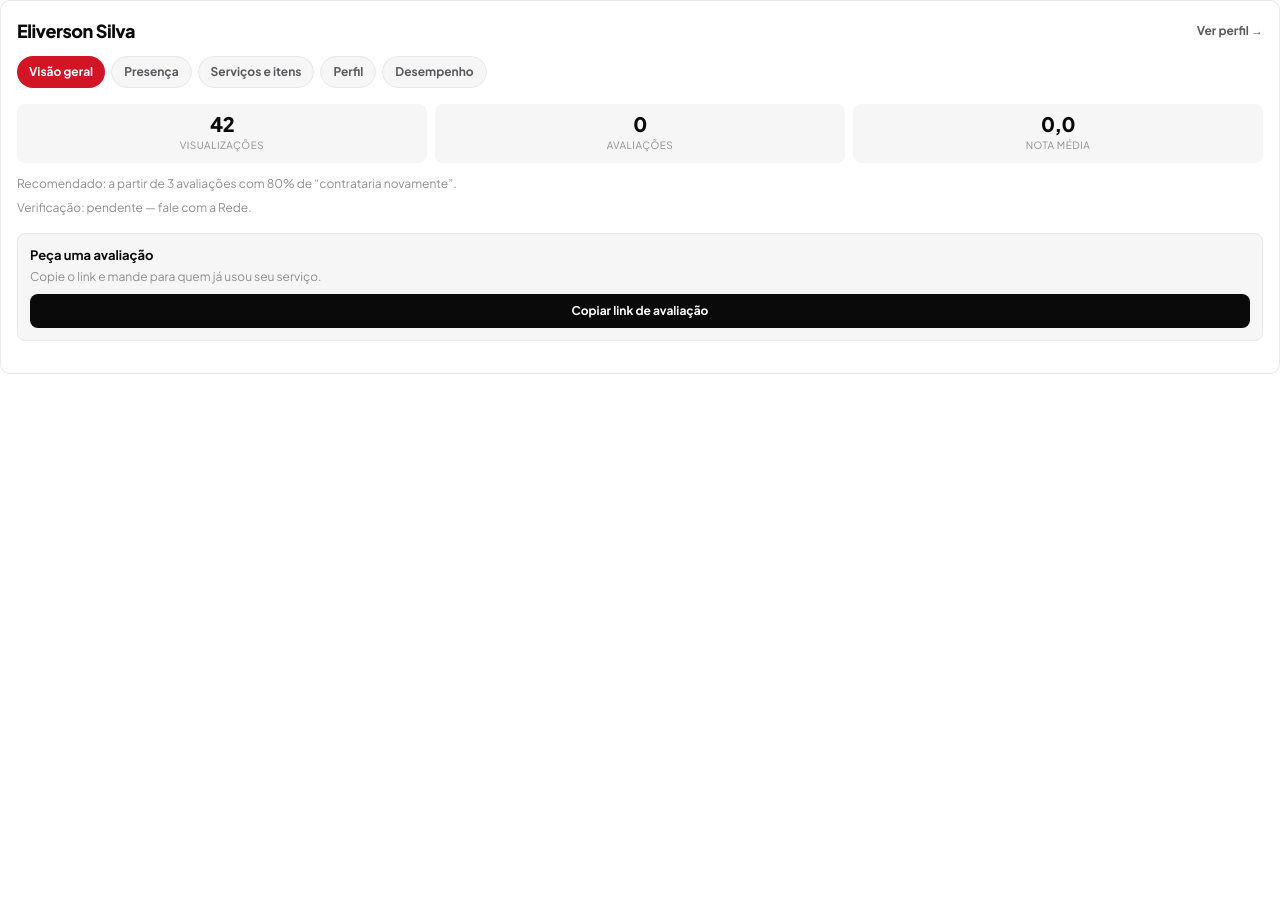
Test case: PainelClient — itens dentro do serviço › abre a tela dedicada de novo item ao clicar em Adicionar
What coordinates should you click on to do the following:
click the button "Serviços e itens"
I would click on:
 (256, 72)
Its box is top-left (198, 56), bottom-right (314, 88).
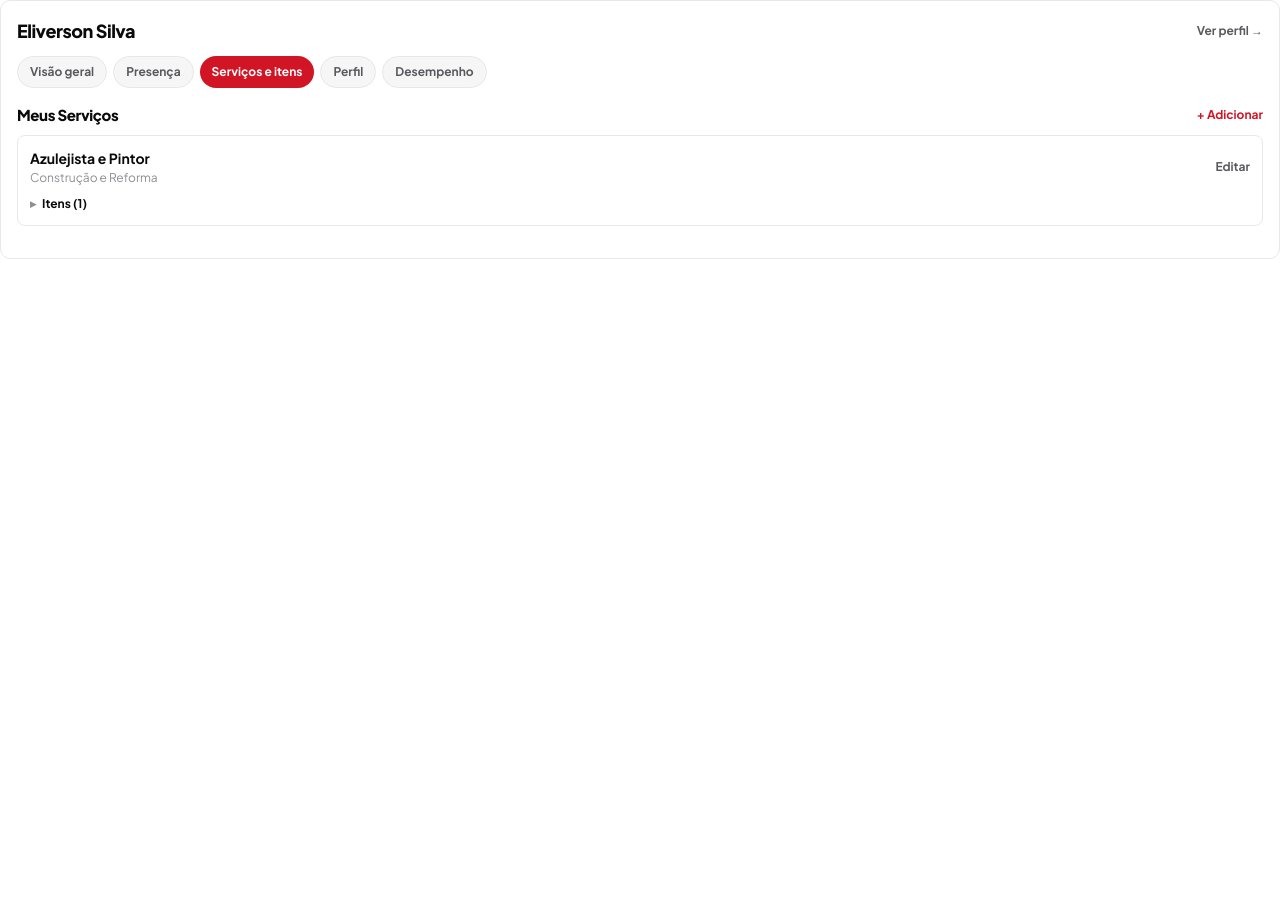
What coordinates should you click on to do the following:
click the button "▸ Itens (1)"
I would click on:
 (58, 204)
Its box is top-left (30, 194), bottom-right (87, 212).
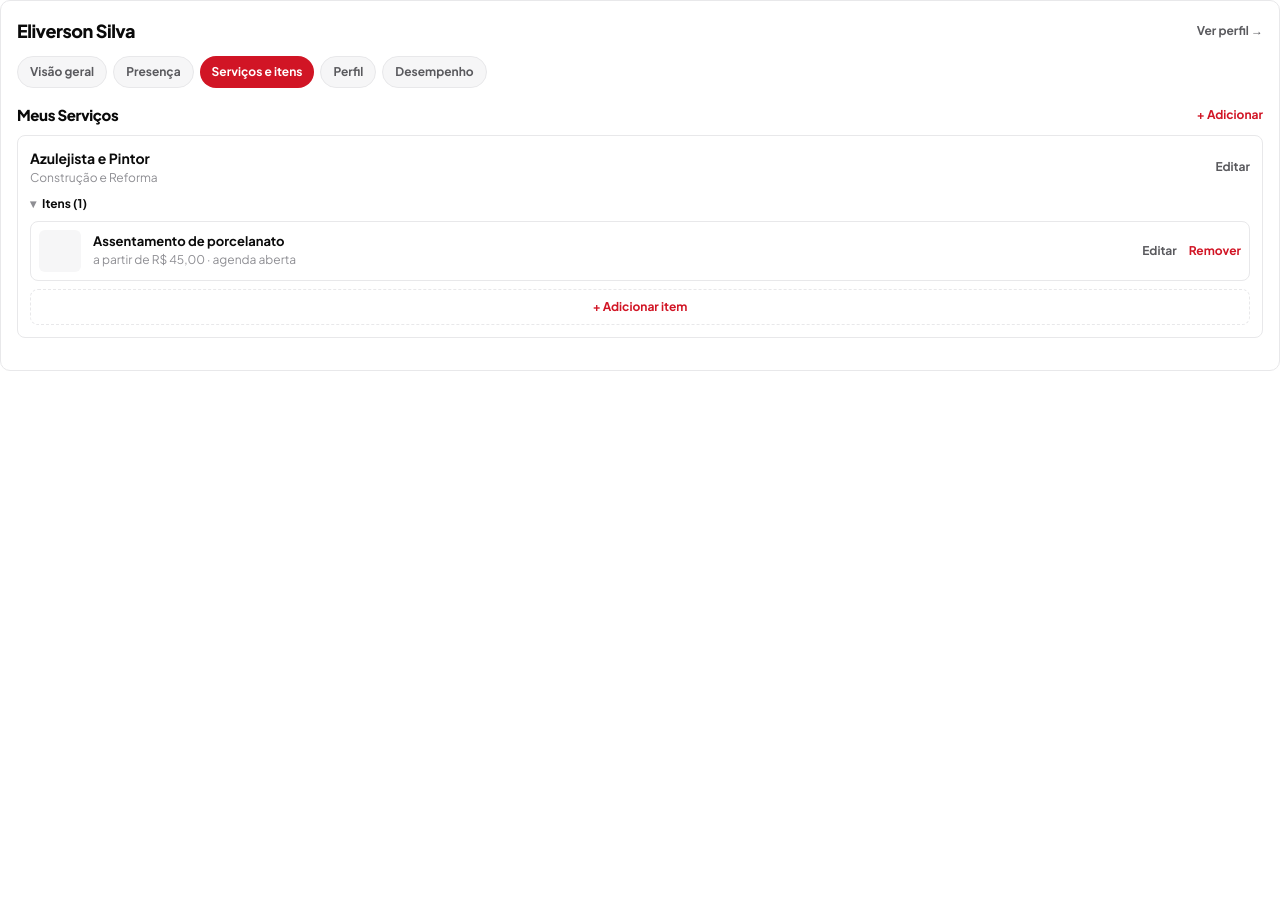
What coordinates should you click on to do the following:
click the button "+ Adicionar item"
I would click on:
 (640, 306)
Its box is top-left (30, 288), bottom-right (1250, 324).
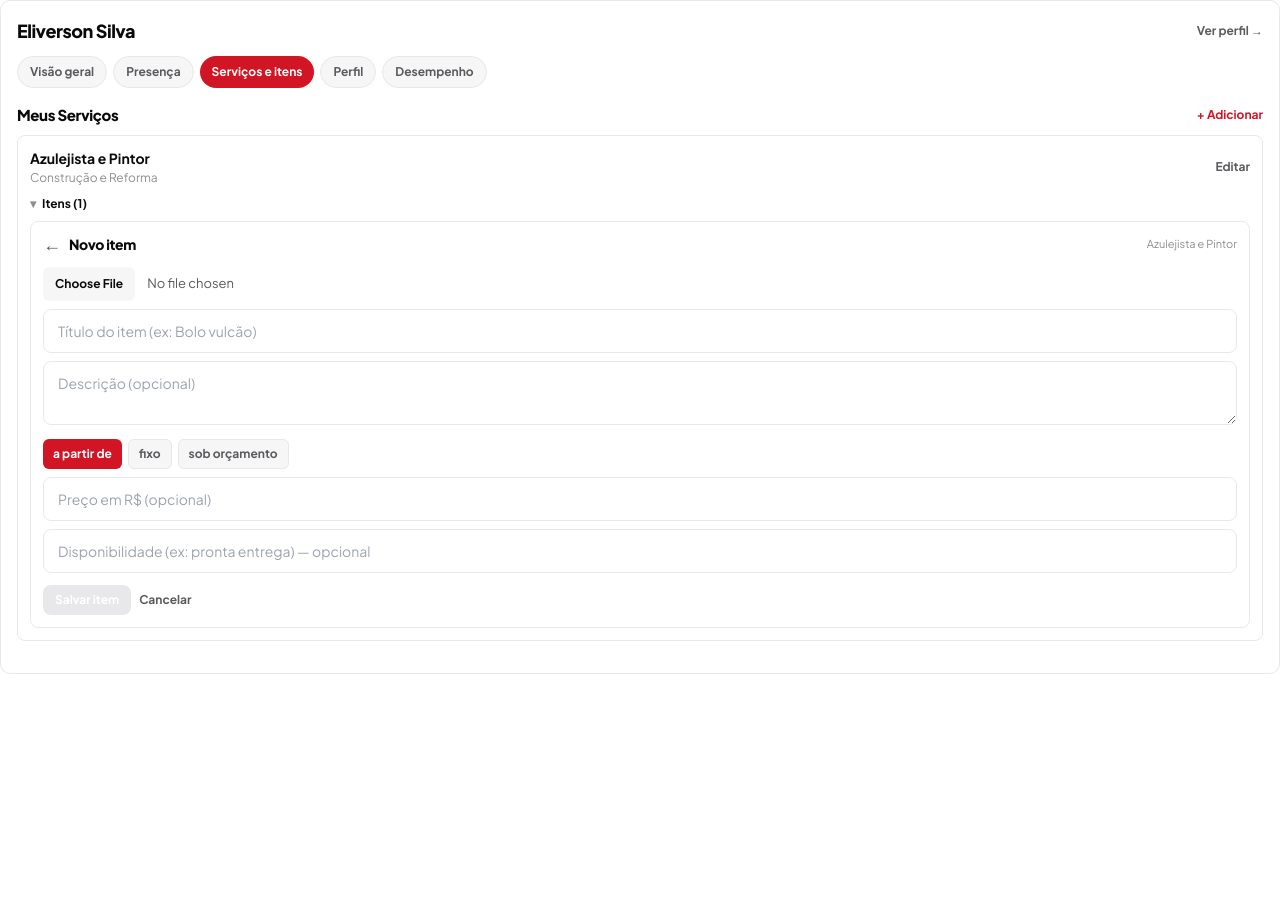
Check: the heading "Novo item" is shown, box top-left (69, 234), bottom-right (136, 254)
Check: the field with placeholder "Título do item (ex: Bolo vulcão)" is shown, box top-left (43, 308), bottom-right (1237, 352)
Check: the text "Assentamento de porcelanato" is gone
